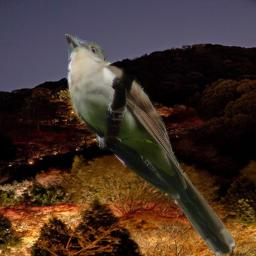Cuckoo: (65, 34, 235, 256)
